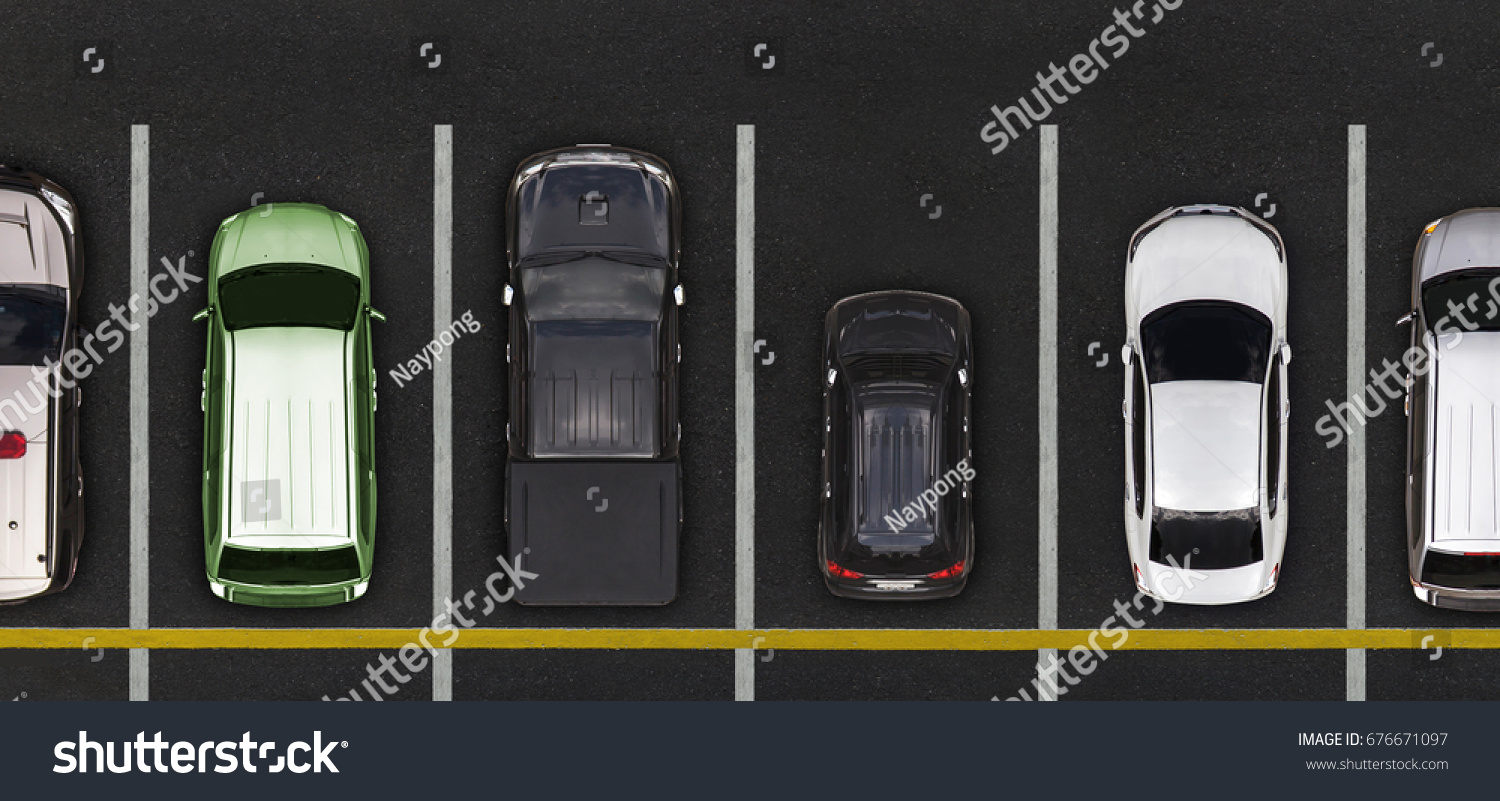Car: (490, 141, 695, 616), (181, 194, 396, 616), (1118, 197, 1302, 609), (809, 280, 981, 605), (1402, 195, 1500, 614), (1, 160, 87, 607)
LaneMark: (732, 122, 761, 628), (127, 122, 153, 629), (431, 122, 457, 620), (1344, 119, 1369, 623), (1038, 122, 1061, 628), (128, 648, 151, 701), (736, 648, 756, 701), (433, 649, 453, 701), (1348, 649, 1367, 699)
